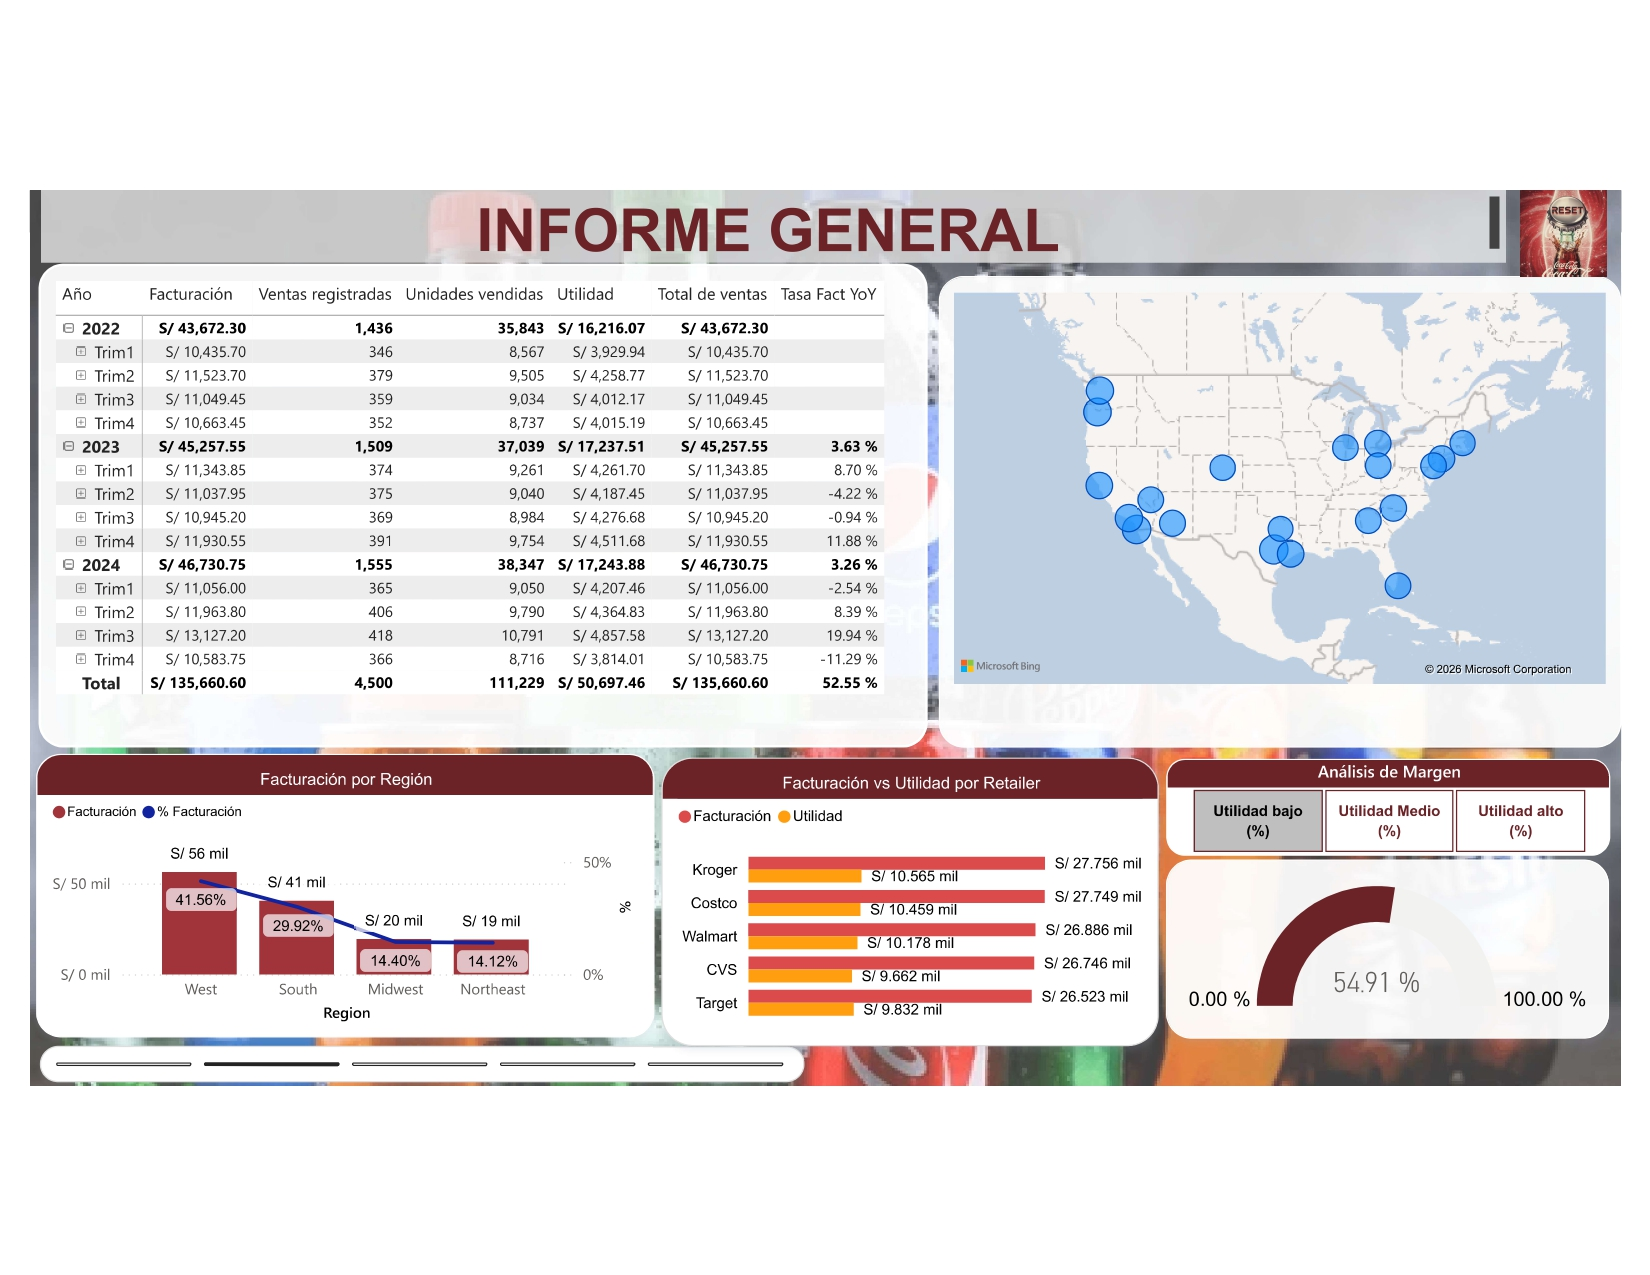

This screenshot's page, from the dashboard's own definition file:
{"tool":"powerbi","page":{"name":"Informe General","canvas":[1280,720],"ordinal":1},"visuals":[{"type":"pivotTable","fields":{"Values":["Tabla medidas.Facturación","Tabla medidas.Conteo de ventas","Tabla medidas.Unidades vendidas","Tabla medidas.Utilidad","Tabla medidas.Total de ventas","Tabla medidas.Tasa Fact YoY"],"Rows":["CalendarioDAX.Año","CalendarioDAX.Trimestre","CalendarioDAX.Mes texto"]},"box":[7.4,59,715.1,389.5],"z":0},{"type":"pageNavigator","box":[8.4,687.9,614.7,29.1],"z":1000},{"type":"map","fields":{"Category":["State.State","City.City"],"Size":["Tabla medidas.Facturación"]},"box":[731,68.8,549.2,379.7],"z":2000},{"type":"lineClusteredColumnComboChart","title":"Facturación por Región","fields":{"Category":["Region.Region"],"Y":["Tabla medidas.Facturación"],"Y2":["Divide(Tabla medidas.Facturación, ScopedEval(Tabla medidas.Facturación, []))"]},"box":[4.7,453.3,497.4,228],"z":3000},{"type":"clusteredBarChart","title":"Facturación vs Utilidad por Retailer","fields":{"Y":["Tabla medidas.Facturación","Tabla medidas.Utilidad"],"Category":["Retailer.Retailer"]},"box":[507.5,456.2,400,231.2],"z":4000},{"type":"gauge","fields":{"Y":["Tabla medidas.Utilidad bajo (%)"]},"box":[914.1,538.1,356.3,143.8],"z":5000},{"type":"slicer","title":"Análisis de Margen","fields":{"Values":["Análisis de Margen.Análisis de Margen"]},"box":[914,457,356.6,77.9],"z":6000},{"type":"image","box":[1187.1,0,92.9,68.6],"z":7000},{"type":"textbox","box":[8.6,0,1178.3,57.7],"z":8000}]}

Visuals, with their boxes on the page's 1280x720 design canvas (x1, y1, x2, y2). These are canvas units, not pixel positions in the 1650x1275 screenshot, which may show the page scaled, cropped or inside an application window:
pivotTable - Tabla medidas.Facturación x Tabla medidas.Conteo de ventas: <box>7,59,722,448</box>
pageNavigator: <box>8,688,623,717</box>
map - State.State x City.City: <box>731,69,1280,448</box>
"Facturación por Región" lineClusteredColumnComboChart: <box>5,453,502,681</box>
"Facturación vs Utilidad por Retailer" clusteredBarChart: <box>508,456,908,687</box>
gauge - Tabla medidas.Utilidad bajo (%): <box>914,538,1270,682</box>
"Análisis de Margen" slicer: <box>914,457,1271,535</box>
image: <box>1187,0,1280,69</box>
textbox: <box>9,0,1187,58</box>
